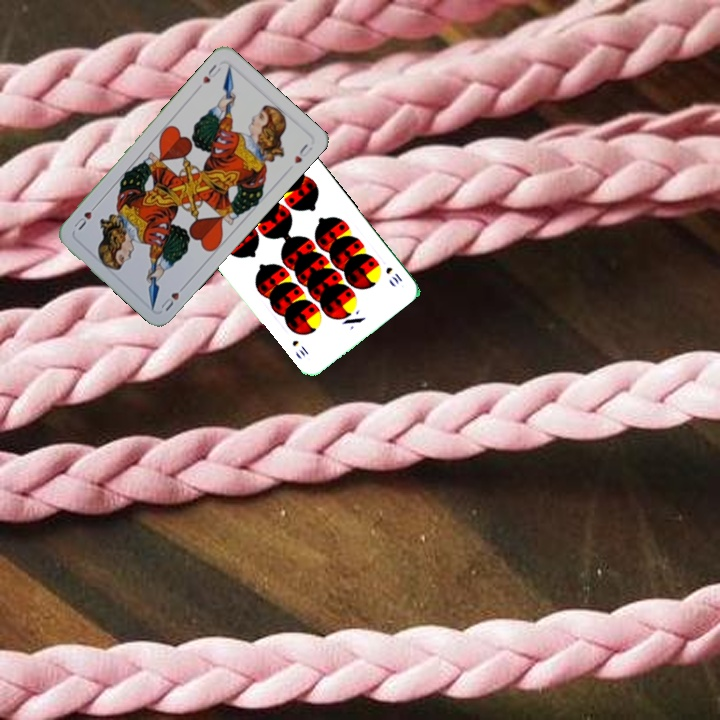HU: (157, 280, 189, 314), (198, 60, 223, 87)
S10: (382, 263, 405, 287)
